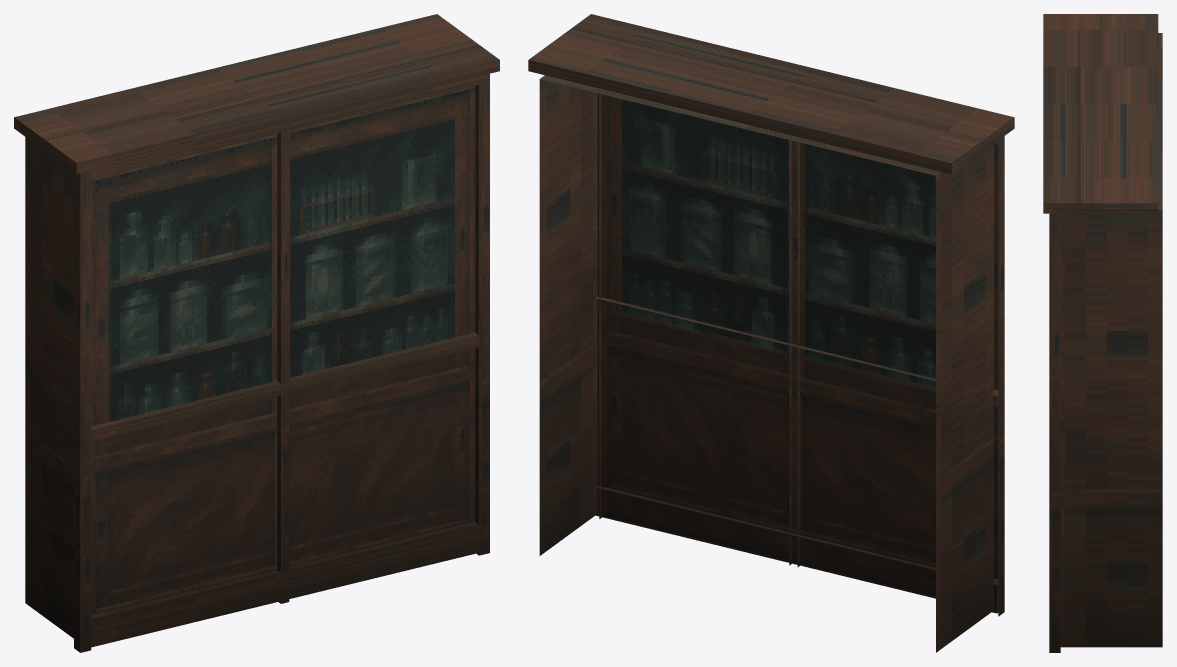
Rendered from prop_shelf_lab-2.glb.
3 views of the same model, side by side, from view 1: azimuth 30°, elevation 25°; view 2: azimuth 150°, elevation 25°; view 3: azimuth 270°, elevation 25° (orthographic). The views are drawn at different scales.
Visible parts, largest first — view 1: prop_shelf_lab-2; view 2: prop_shelf_lab-2; view 3: prop_shelf_lab-2.
Part boxes in pixels (x1,y1,x2,y2): prop_shelf_lab-2: [14, 14, 499, 652]; prop_shelf_lab-2: [528, 14, 1014, 652]; prop_shelf_lab-2: [1043, 14, 1162, 652].
Size of the model in its own units: 1.56 by 1.74 by 0.415.
1 material, 1 textured.
